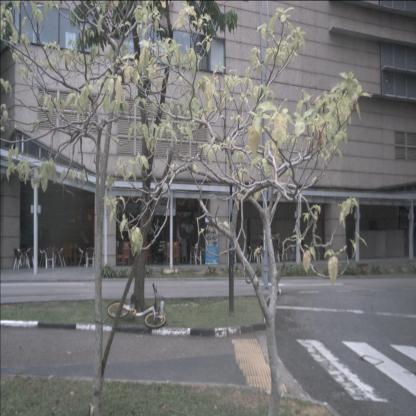vehicle-bicycle: (107, 283, 166, 329)
